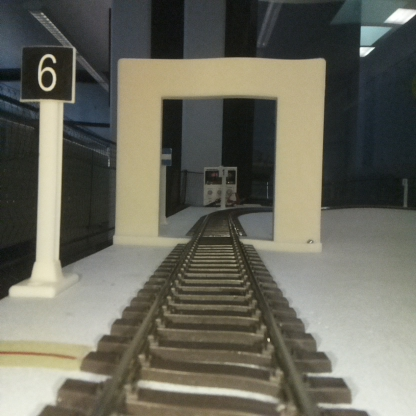black-info-6: (21, 47, 72, 294)
